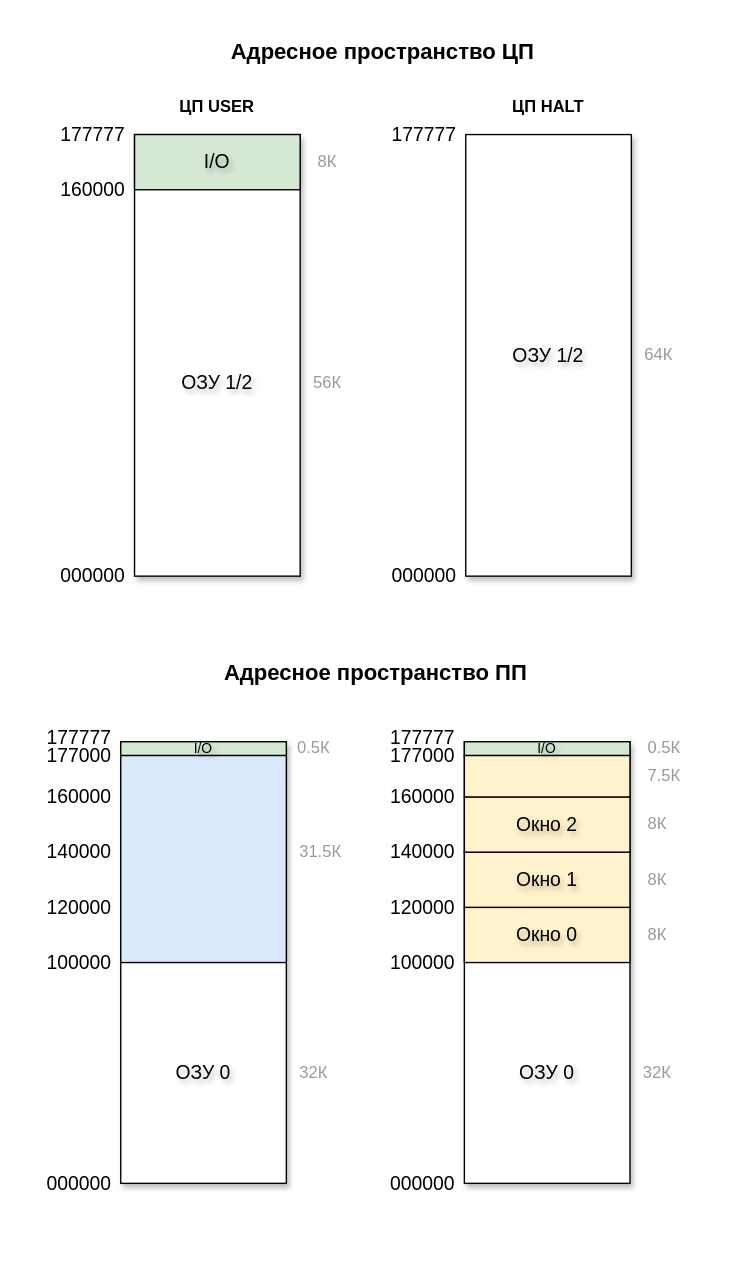
The diagram is 737 pixels wide and 1261 high, and some of its shapes have lost their labels. Here are the shapes that lost their labels. From the top down, the centre of each, then its label:
At point 546,775: "Окно 3".
At point 202,858: "ПЗУ".
